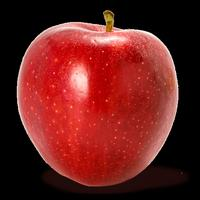apple: (16, 10, 179, 188)
